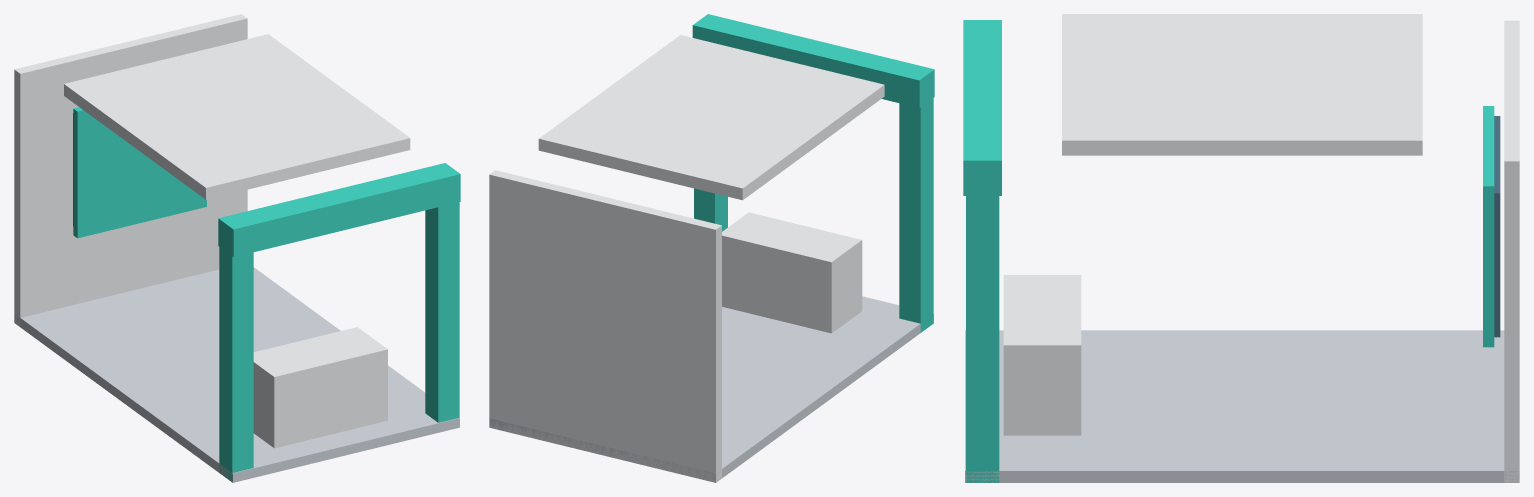
The picture shows the model from 3 angles, left to right: view 1: azimuth 30°, elevation 25°; view 2: azimuth 150°, elevation 25°; view 3: azimuth 270°, elevation 25°; orthographic projection. The views are drawn at different scales.
Parts seen in each view (by area): view 1: Exhibition Booth Concept; view 2: Exhibition Booth Concept; view 3: Exhibition Booth Concept.
Part boxes in pixels (left/top/right/bottom): Exhibition Booth Concept: left=14, top=14, right=460, bottom=482; Exhibition Booth Concept: left=489, top=14, right=934, bottom=482; Exhibition Booth Concept: left=963, top=14, right=1519, bottom=482.
Size of the model in its own units: 3 by 3.34 by 5.02.
